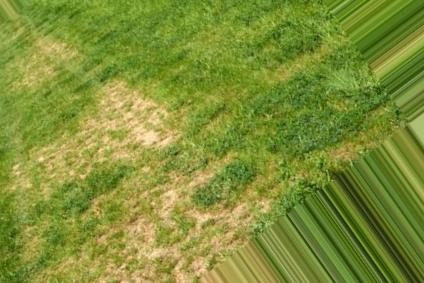patch: (103, 196, 175, 271), (98, 80, 167, 147), (186, 202, 240, 247), (34, 136, 84, 177), (150, 163, 220, 192), (22, 48, 50, 80), (51, 35, 81, 63)
